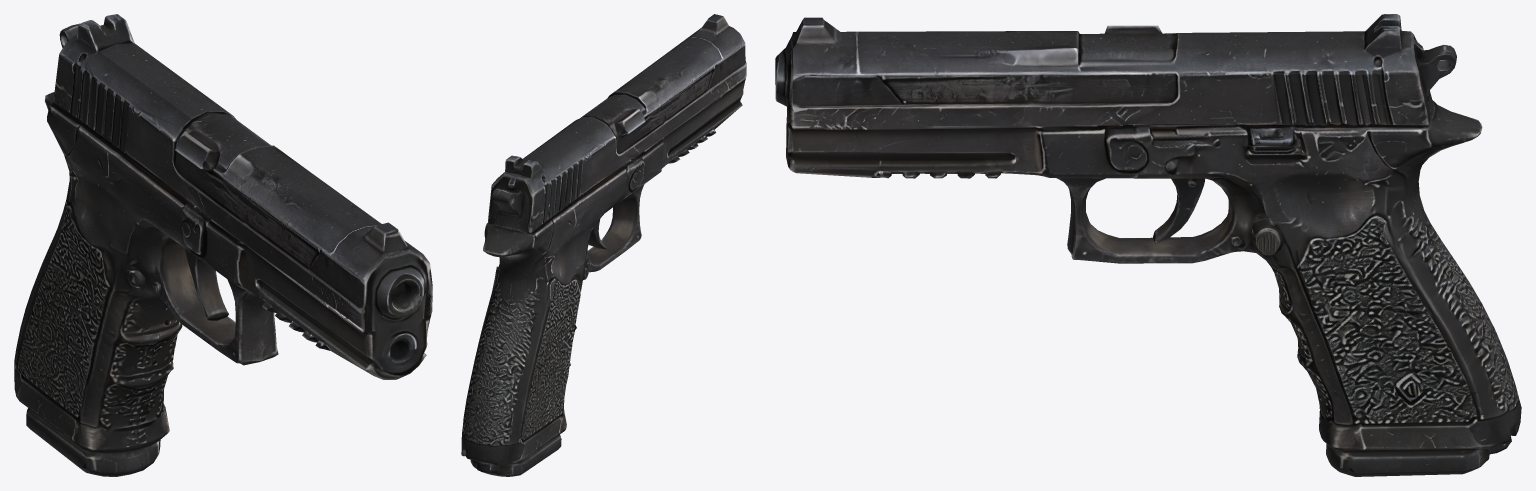
File: base_basic_pbr.glb
3 views of the same model, side by side, from view 1: azimuth 30°, elevation 25°; view 2: azimuth 150°, elevation 25°; view 3: azimuth 270°, elevation 25° (orthographic). The views are drawn at different scales.
Visible parts, largest first — view 1: model; view 2: model; view 3: model.
Part boxes in pixels (bbox=[...]): model: bbox=[14, 14, 432, 476]; model: bbox=[461, 14, 746, 476]; model: bbox=[775, 14, 1521, 476].
Bounding box in the file's own units: 0.0642 × 0.3 × 0.4599.
Materials: 1 (1 with a texture image).
